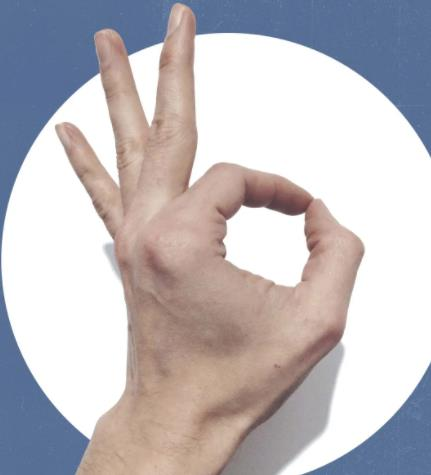left: (64, 4, 365, 415)
